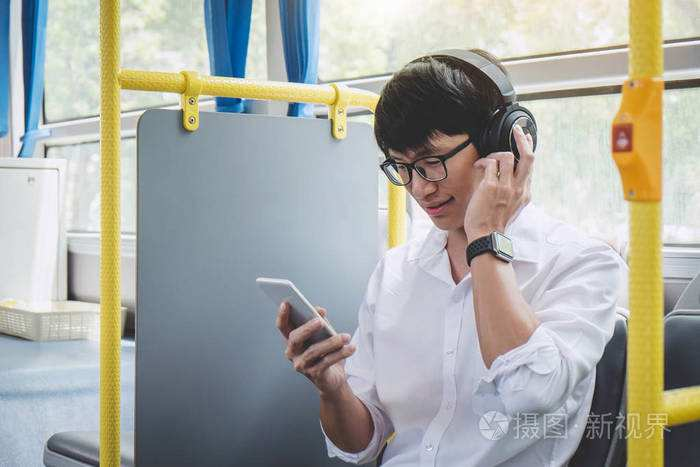reading: (254, 272, 360, 399)
